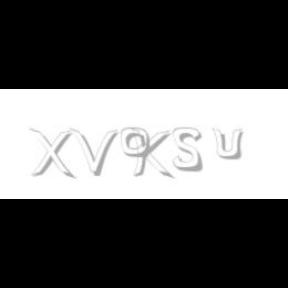K: (131, 128, 171, 180)
S: (172, 128, 204, 172)
V: (70, 128, 118, 176)
X: (29, 128, 73, 180)
o: (120, 128, 150, 158)
u: (212, 128, 246, 160)
